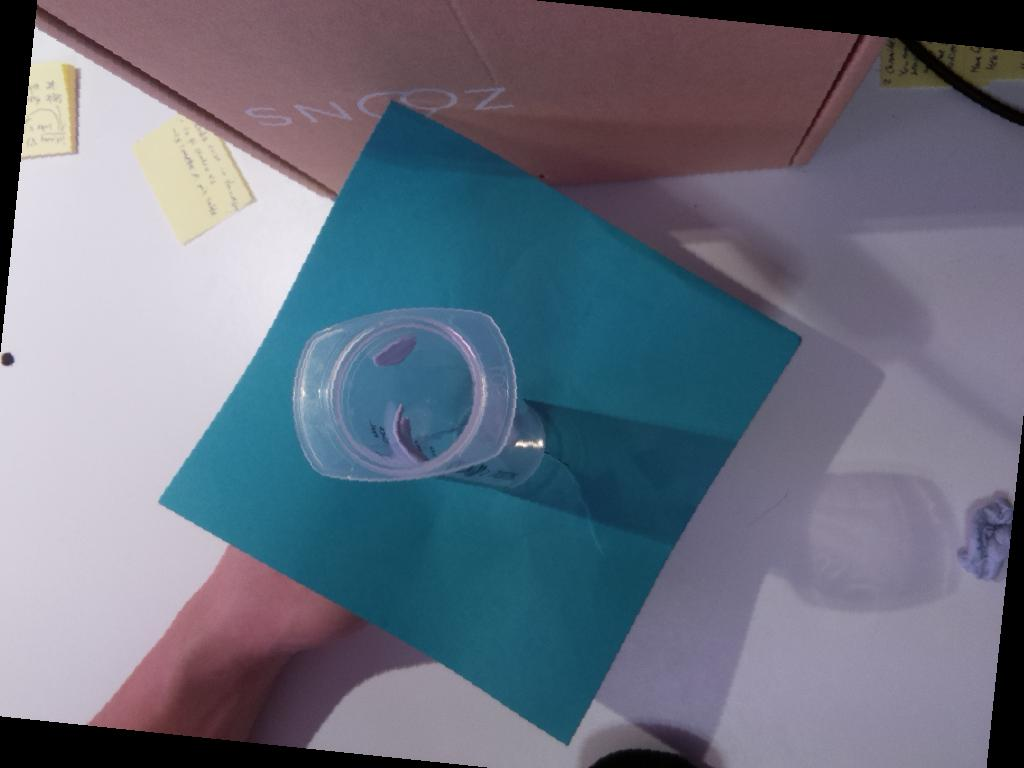dirty: (291, 306, 516, 480)
